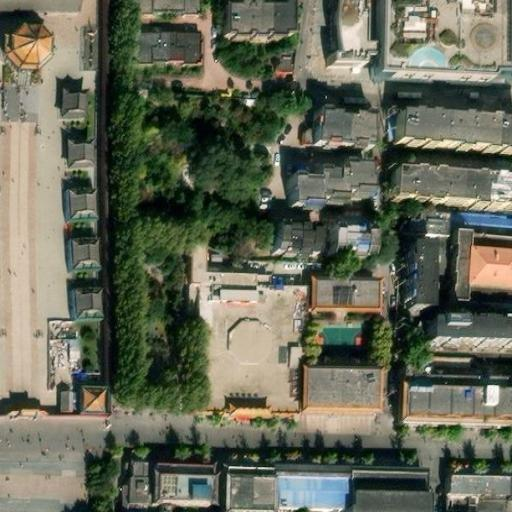building: (332, 0, 512, 101), (448, 232, 512, 315), (394, 117, 512, 158), (388, 171, 512, 209), (395, 397, 505, 434), (128, 467, 213, 512), (288, 158, 366, 203), (301, 378, 376, 421), (273, 479, 347, 512), (405, 255, 433, 336), (131, 32, 201, 64), (400, 378, 505, 399), (425, 340, 512, 365), (311, 285, 376, 318), (226, 11, 292, 42), (223, 473, 273, 512), (314, 109, 368, 141), (276, 229, 322, 262), (446, 478, 507, 502), (210, 274, 256, 304), (453, 212, 512, 235), (336, 229, 377, 262), (396, 212, 444, 238), (98, 314, 115, 381), (223, 396, 272, 417), (131, 0, 198, 15), (73, 190, 96, 218), (69, 138, 94, 163), (61, 92, 86, 115), (77, 290, 100, 315), (78, 390, 101, 415), (74, 239, 97, 263), (272, 50, 294, 75), (346, 506, 429, 512), (57, 387, 70, 414)
